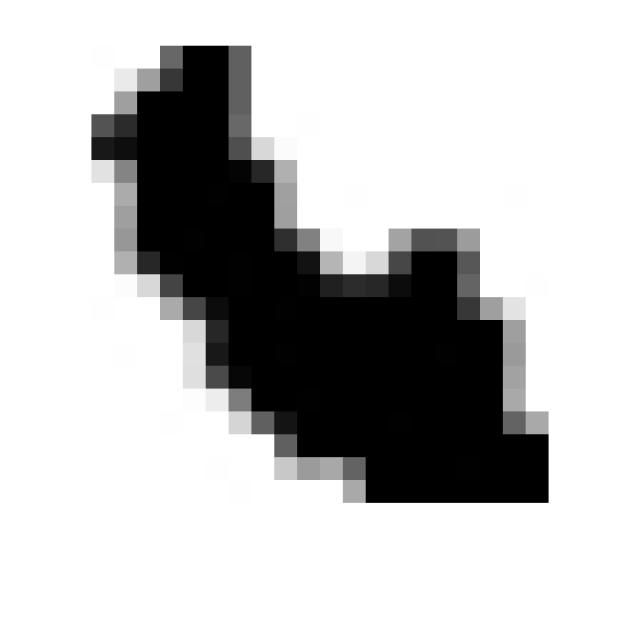0 -zero-: (75, 32, 567, 527)
